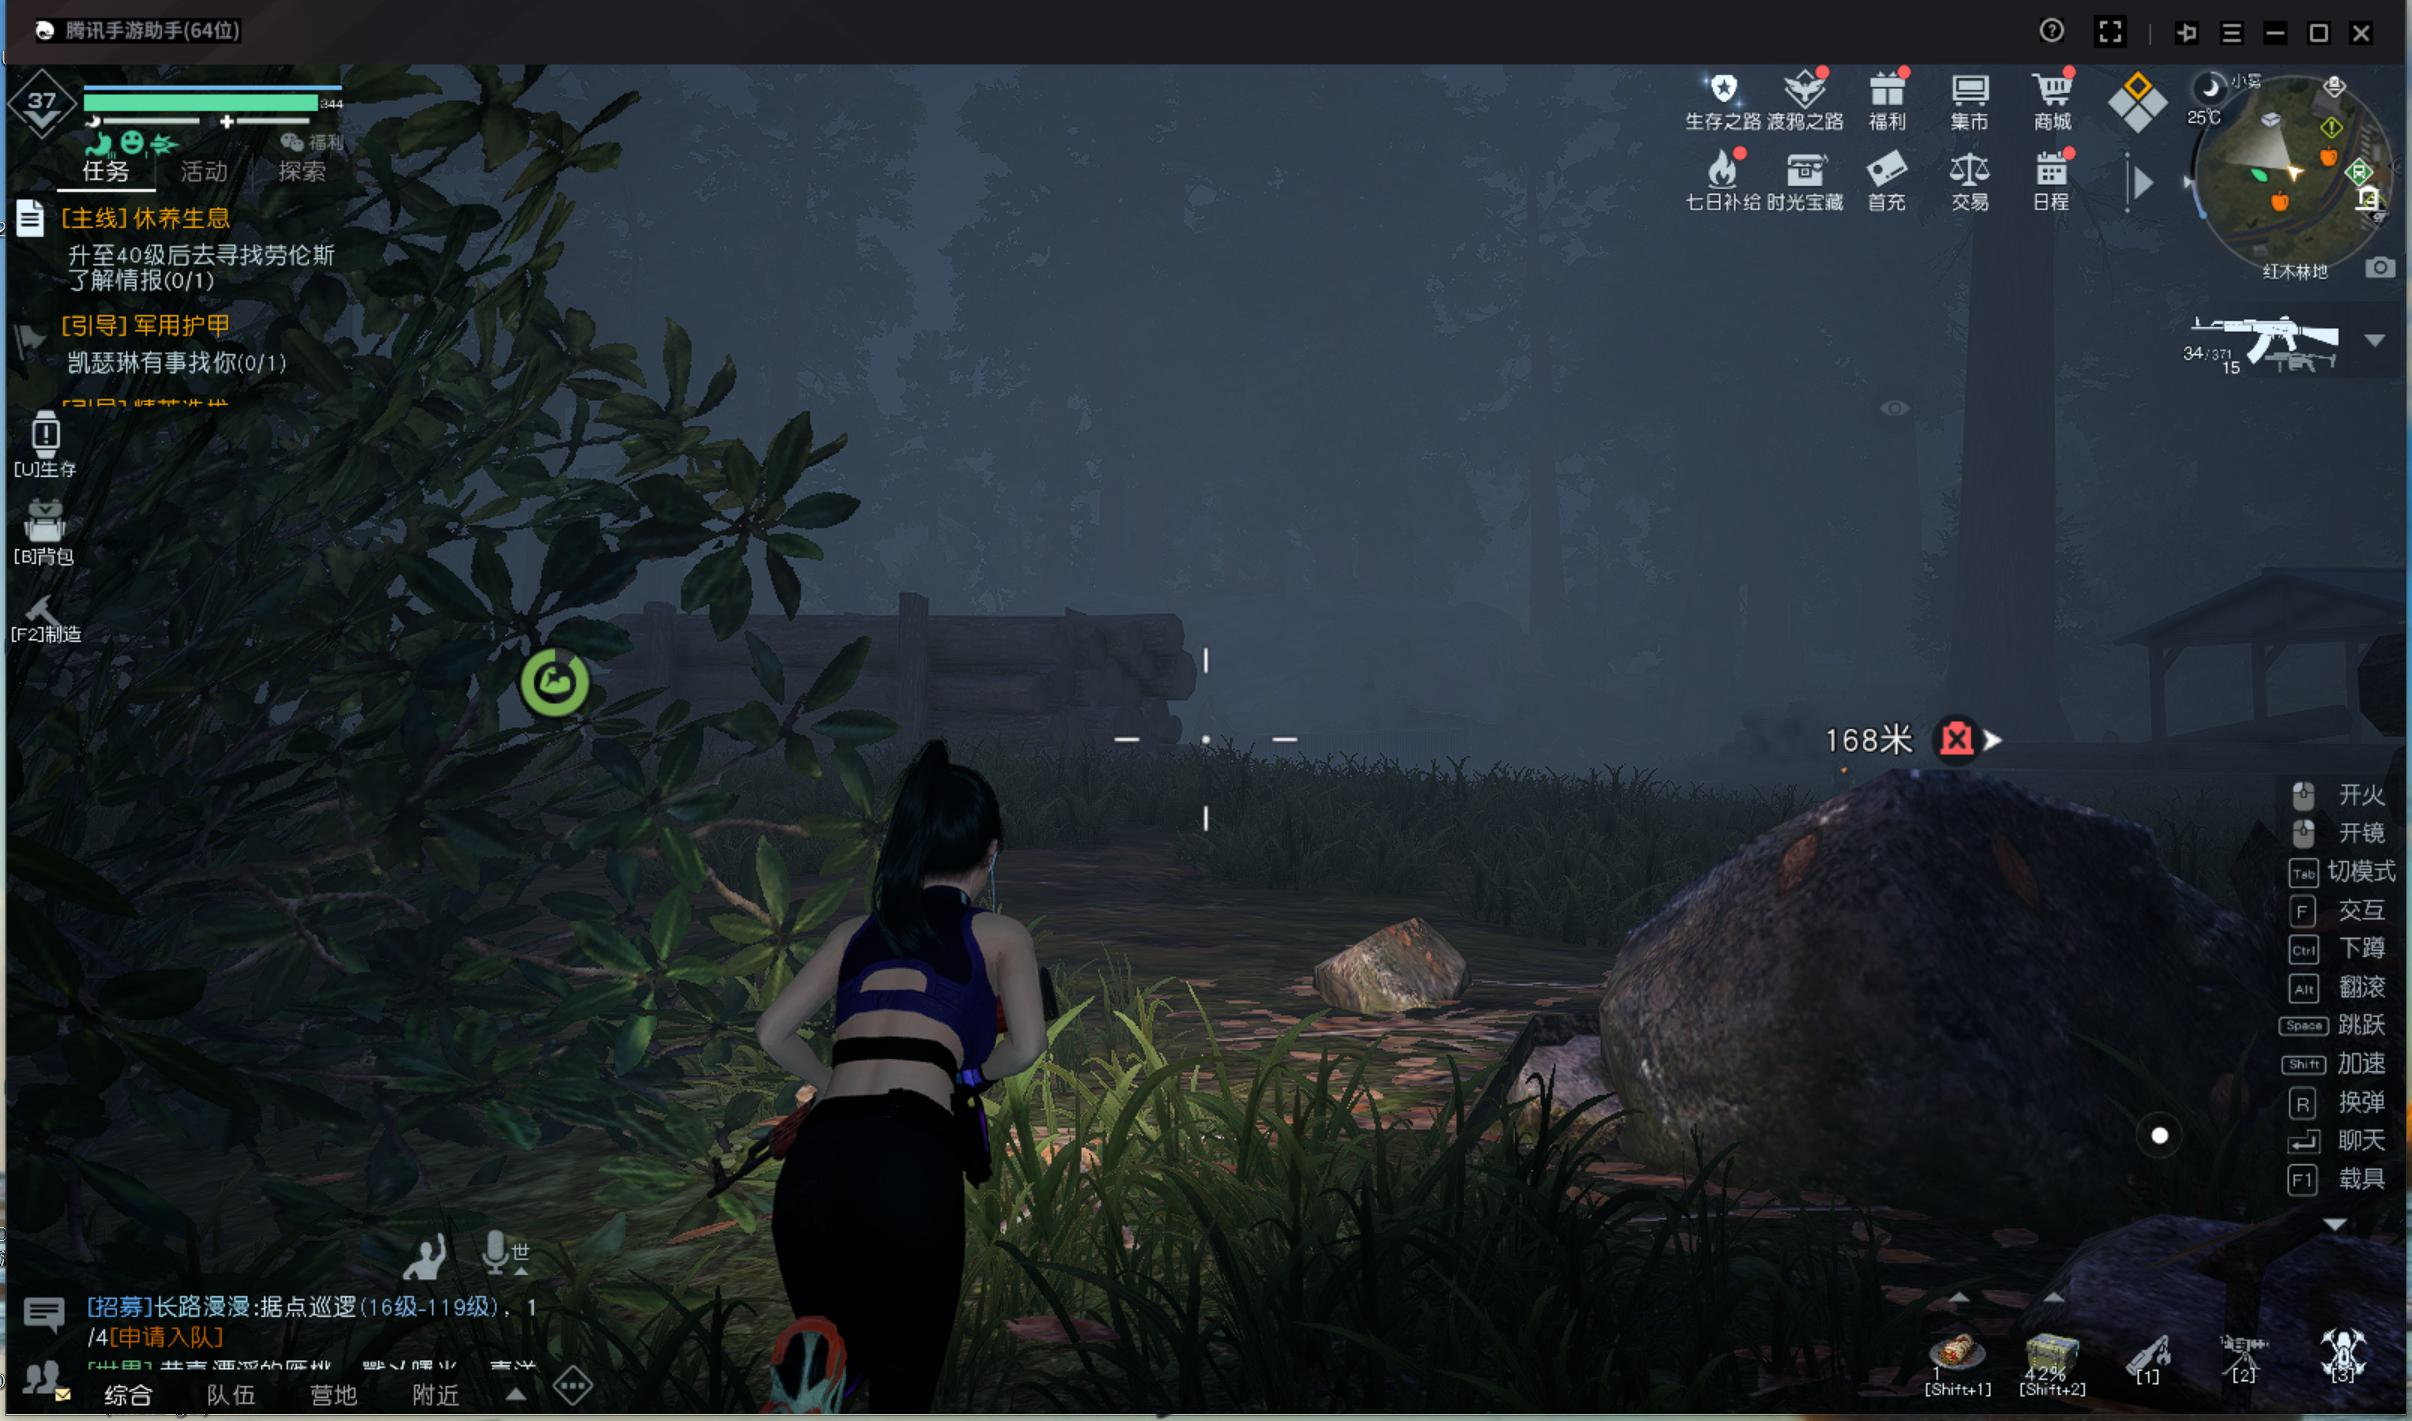tree: (1947, 281, 2094, 770)
